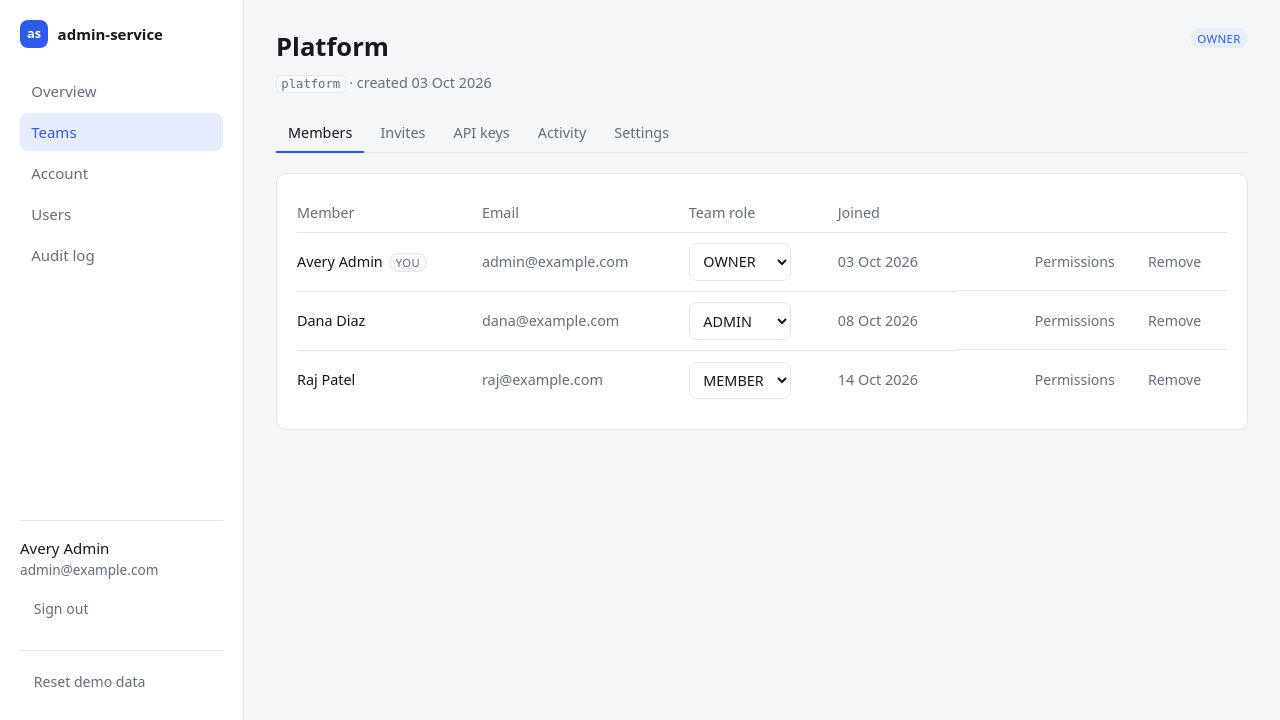
Test: managing members › locks the permissions their role already carries
Click the button "Permissions" in the row of "Dana Diaz": (1075, 320) [1021,302,1129,338]
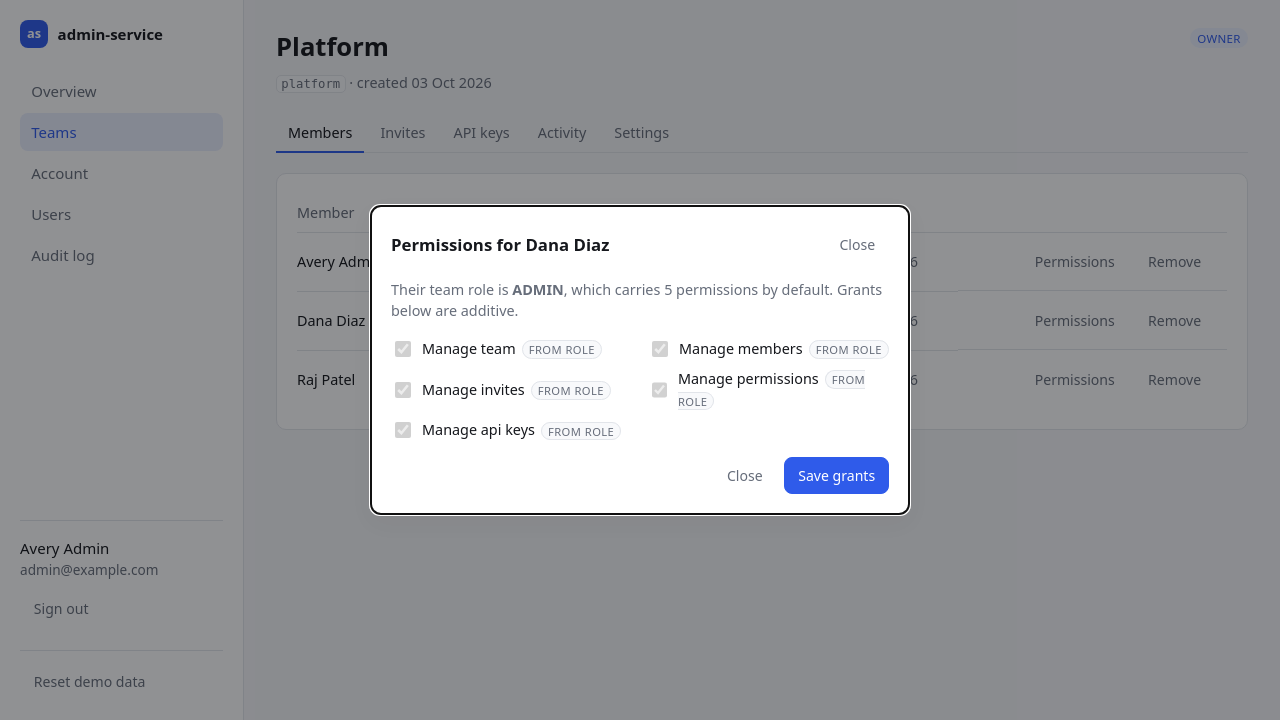
Expected: the 1st checkbox is checked, [395,341,411,357]
Expected: the 1st checkbox is disabled, [395,341,411,357]
Expected: the 2nd checkbox is checked, [652,341,668,357]
